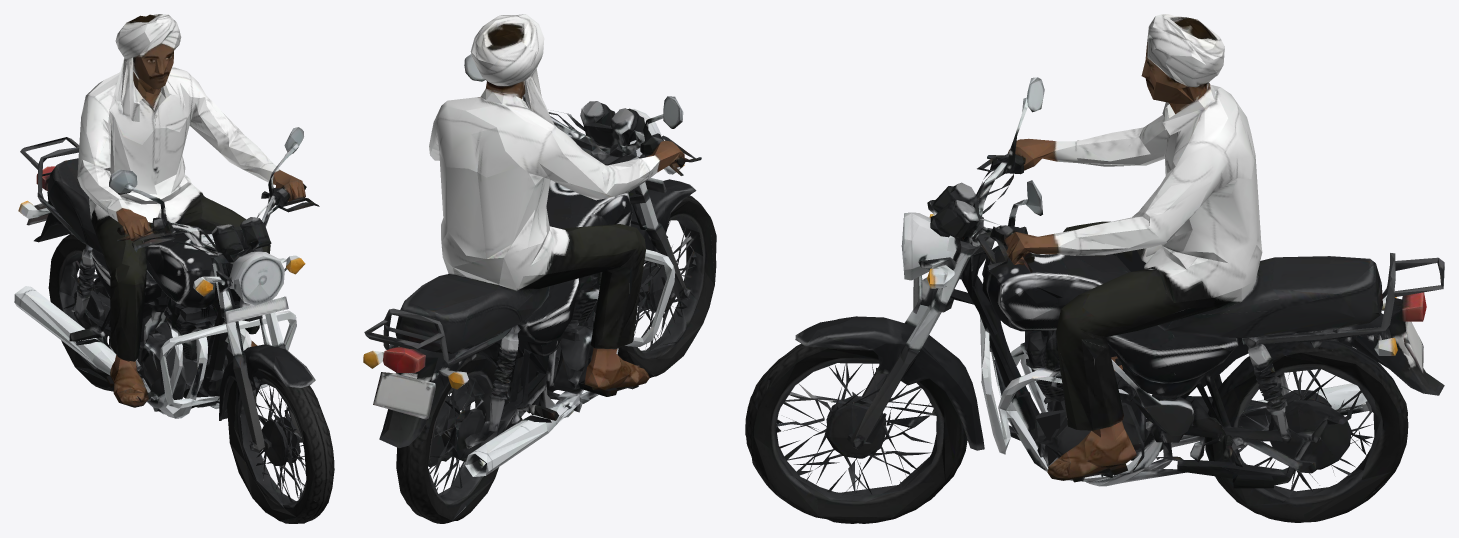
The model's file is motor.glb.
3 renders of one model, left to right at view 1: azimuth 30°, elevation 25°; view 2: azimuth 150°, elevation 25°; view 3: azimuth 270°, elevation 25°, orthographic. The views are drawn at different scales.
Visible parts, largest first — view 1: body, rider, wheel_f, wheel_r; view 2: body, rider, wheel_f, wheel_r; view 3: body, rider, wheel_f, wheel_r.
Part boxes in pixels (x1,y1,x2,y2): body: (14, 127, 334, 523); rider: (77, 14, 305, 407); wheel_f: (243, 410, 305, 523); wheel_r: (62, 287, 111, 390); body: (363, 54, 716, 523); rider: (429, 14, 684, 390); wheel_f: (633, 261, 702, 377); wheel_r: (428, 408, 495, 522); body: (745, 77, 1444, 518); rider: (1004, 14, 1262, 480); wheel_f: (782, 374, 934, 523); wheel_r: (1238, 406, 1390, 522).
Size of the model in its own units: 0.7533 by 1.5 by 1.9.
1 material, 1 textured.
